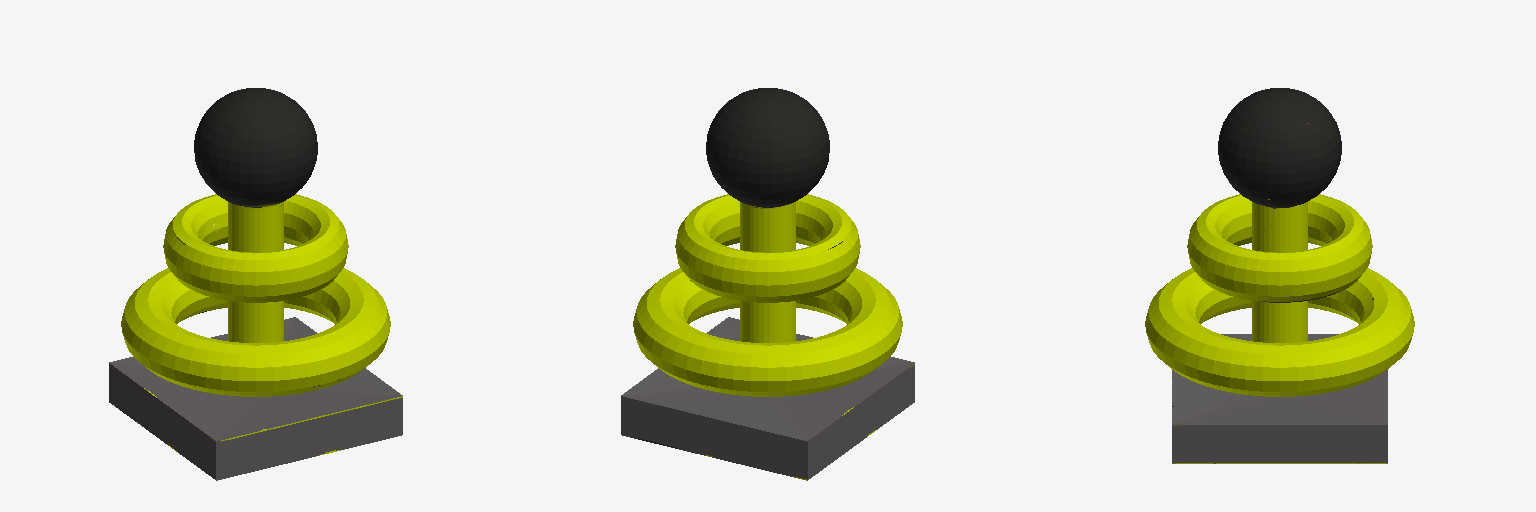
3 views of the same model, side by side, from view 1: azimuth 30°, elevation 25°; view 2: azimuth 150°, elevation 25°; view 3: azimuth 270°, elevation 25° (orthographic).
Parts seen in each view (by area): view 1: 立方体; view 2: 立方体; view 3: 立方体.
Part boxes in pixels (x1,y1,x2,y2): 立方体: (109, 88, 402, 480); 立方体: (621, 88, 914, 480); 立方体: (1145, 88, 1414, 463).
Bounding box in the file's own units: 2.5 × 3.32 × 2.5.
Materials: 1 (1 with a texture image).